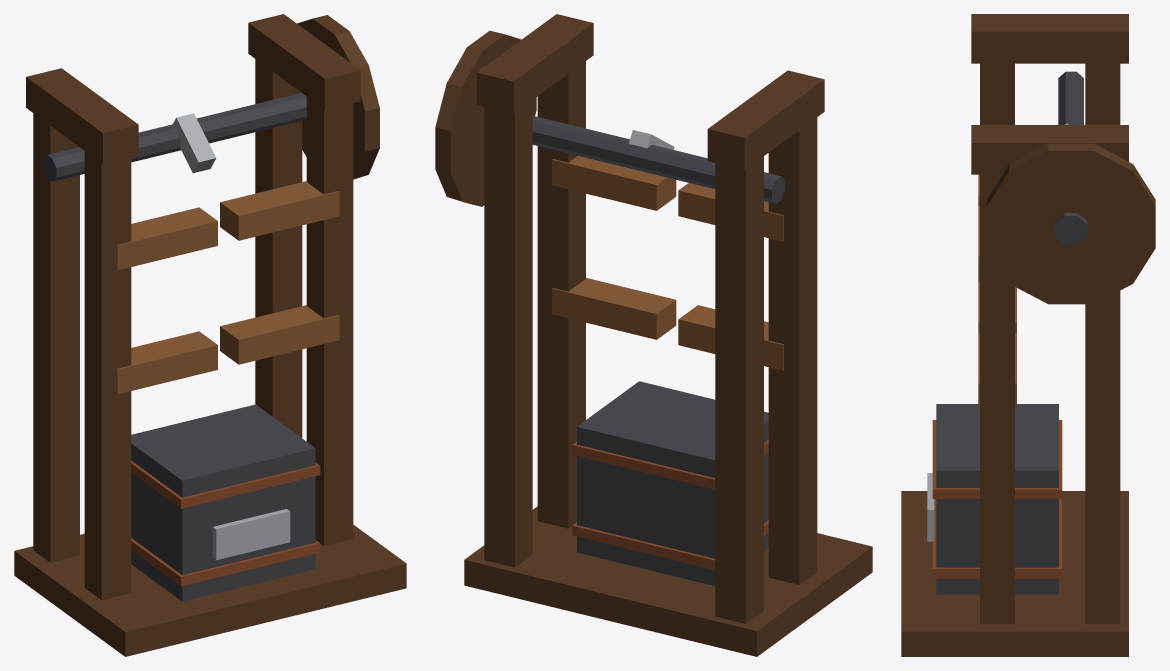
Rendered from mine_stamp_mill.glb.
3 renders of one model, left to right at view 1: azimuth 30°, elevation 25°; view 2: azimuth 150°, elevation 25°; view 3: azimuth 270°, elevation 25°, orthographic. The views are drawn at different scales.
Visible parts, largest first — view 1: mine_stamp_mill; view 2: mine_stamp_mill; view 3: mine_stamp_mill.
Part boxes in pixels (x1=…): mine_stamp_mill: x1=14, y1=14, x2=406, y2=656; mine_stamp_mill: x1=435, y1=14, x2=872, y2=656; mine_stamp_mill: x1=901, y1=14, x2=1155, y2=656.
Bounding box in the file's own units: 2.04 × 3.23 × 1.45.
